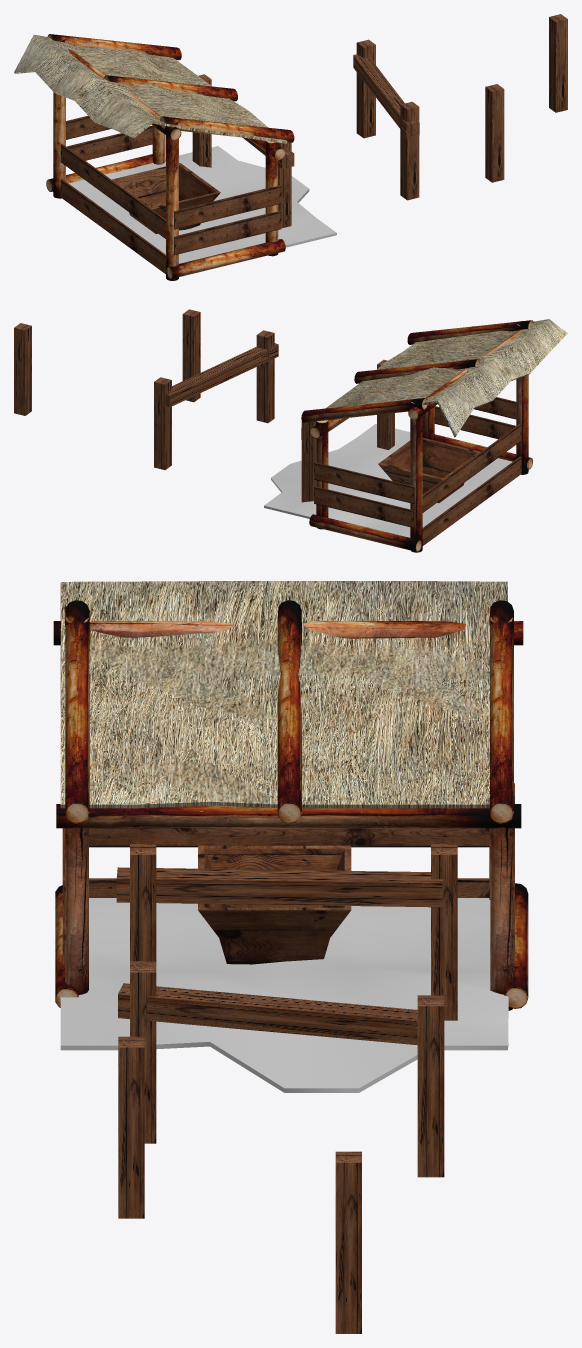
File: mine_1var_combine_version_001.fbx
3 renders of one model, top to bottom at view 1: azimuth 30°, elevation 25°; view 2: azimuth 150°, elevation 25°; view 3: azimuth 270°, elevation 25°, orthographic. The views are drawn at different scales.
Parts seen in each view (by area): view 1: mine4; view 2: mine4; view 3: mine4.
Part boxes in pixels (x1,y1,x2,y2): mine4: (14, 14, 567, 280); mine4: (14, 309, 567, 552); mine4: (53, 581, 528, 1333).
Bounding box in the file's own units: 270 × 84.31 × 116.
